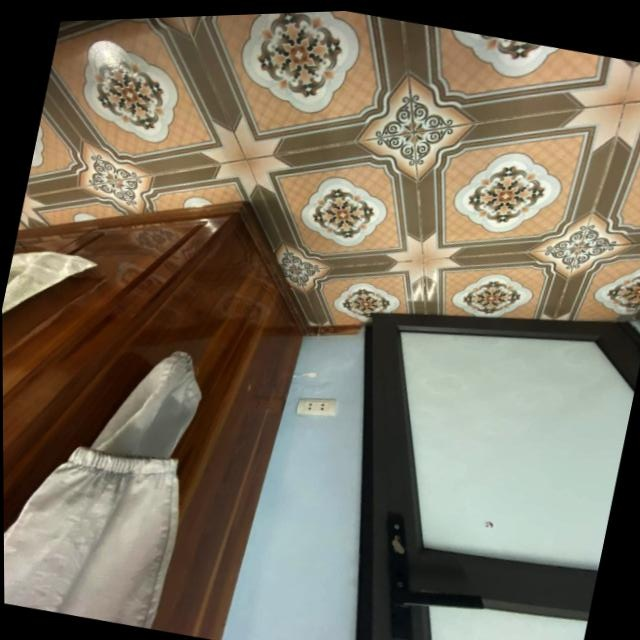outlet: (295, 390, 341, 422)
